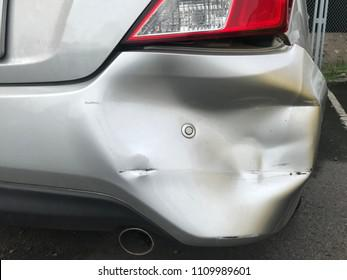rear-bumper-dent: (85, 53, 324, 241)
